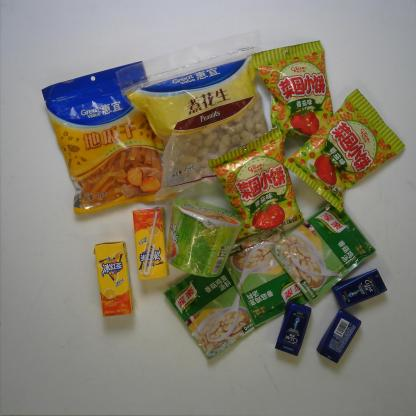Dried Food: (115, 30, 269, 207)
Dried Fruit: (41, 60, 176, 216)
Drink: (93, 241, 135, 318), (132, 206, 170, 281)
Instant Noodles: (166, 196, 245, 278)
Personal Hygiene: (316, 309, 362, 365), (330, 267, 388, 310), (274, 300, 312, 357)
Puffed Food: (282, 88, 406, 213), (207, 124, 305, 240), (252, 40, 333, 140)
Seasoner: (269, 202, 377, 303), (162, 269, 266, 360), (225, 224, 309, 328)
